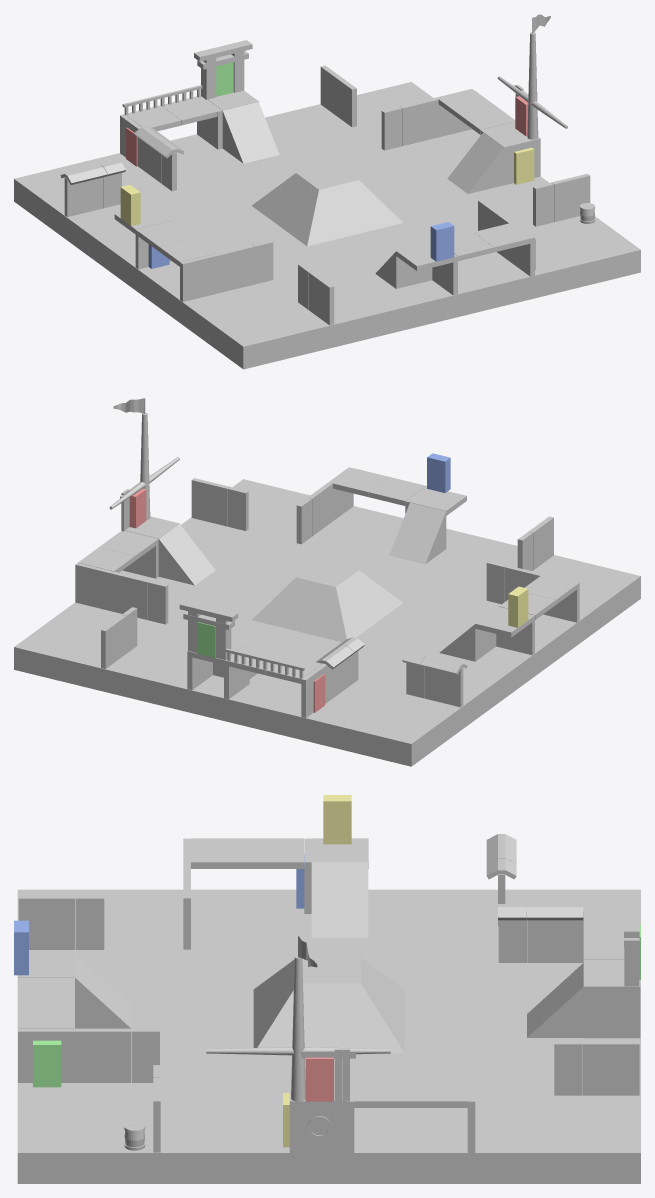
File: blockout.fbx
3 renders of one model, top to bottom at view 1: azimuth 30°, elevation 25°; view 2: azimuth 150°, elevation 25°; view 3: azimuth 270°, elevation 25°, orthographic. The views are drawn at different scales.
Parts seen in each view (by area): view 1: Plane, Cube, Cube.018, Cube.028, Cube.001, Cube.022, Cube.002, Cube.039, Circle.030, Cube.019, Cube.009, Cube.038 (+34 smaller); view 2: Plane, Cube, Cube.038, Cube.028, Cube.039, Cube.021, Cube.022, Cube.019, Cube.008, Circle.030, Cube.029, Cube.035 (+33 smaller); view 3: Plane, Cube, Cube.008, Cube.029, Cube.032, Cube.045, Cube.009, Cube.018, Cube.038, Cube.042, Circle.030, Cube.012 (+28 smaller).
Part boxes in pixels (bbox=[...]): Plane: bbox=[14, 82, 640, 369]; Cube: bbox=[251, 163, 402, 246]; Cube.018: bbox=[222, 102, 279, 163]; Cube.028: bbox=[447, 132, 504, 193]; Cube.001: bbox=[180, 253, 218, 301]; Cube.022: bbox=[400, 97, 438, 145]; Cube.002: bbox=[216, 244, 254, 292]; Cube.039: bbox=[551, 173, 590, 222]; Circle.030: bbox=[497, 32, 567, 139]; Cube.019: bbox=[64, 177, 103, 216]; Cube.009: bbox=[308, 271, 334, 325]; Cube.038: bbox=[375, 251, 432, 288]; Plane: bbox=[14, 479, 640, 766]; Cube: bbox=[252, 560, 402, 642]; Cube.038: bbox=[389, 502, 446, 564]; Cube.028: bbox=[158, 524, 215, 585]; Cube.039: bbox=[191, 478, 229, 526]; Cube.021: bbox=[75, 563, 113, 610]; Cube.022: bbox=[111, 571, 149, 619]; Cube.019: bbox=[424, 667, 463, 707]; Cube.008: bbox=[439, 624, 496, 661]; Circle.030: bbox=[109, 412, 179, 519]; Cube.029: bbox=[101, 615, 126, 668]; Cube.035: bbox=[369, 477, 425, 505]; Plane: bbox=[17, 889, 640, 1183]; Cube: bbox=[253, 956, 404, 1053]; Cube.008: bbox=[311, 862, 368, 937]; Cube.029: bbox=[583, 1041, 639, 1095]; Cube.032: bbox=[74, 1028, 130, 1082]; Cube.045: bbox=[583, 986, 640, 1038]; Cube.009: bbox=[18, 895, 75, 949]; Cube.018: bbox=[527, 963, 583, 1037]; Cube.038: bbox=[75, 954, 131, 1028]; Cube.042: bbox=[291, 1101, 347, 1152]; Circle.030: bbox=[206, 955, 390, 1101]; Cube.012: bbox=[527, 908, 584, 962].
Size of the model in its own units: 3466 by 3319 by 1430.
